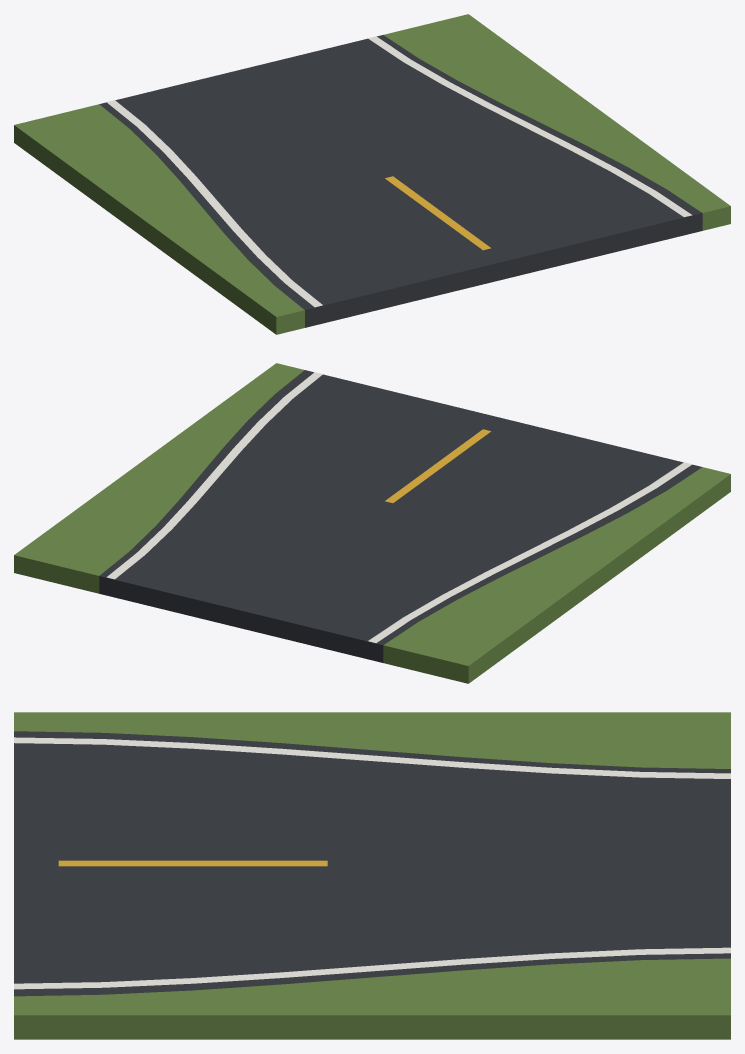
The model's file is Transition_Ramp_To_2Lane_NoSidewalk_8m.glb.
3 renders of one model, top to bottom at view 1: azimuth 30°, elevation 25°; view 2: azimuth 150°, elevation 25°; view 3: azimuth 270°, elevation 25°, orthographic. The views are drawn at different scales.
Visible parts, largest first — view 1: Transition_Ramp_To_2Lane_NoSidewalk_8m_Asphalt, Transition_Ramp_To_2Lane_NoSidewalk_8m_Grass-edge, Transition_Ramp_To_2Lane_NoSidewalk_8m_PaintWhite, Transition_Ramp_To_2Lane_NoSidewalk_8m_PaintYellow; view 2: Transition_Ramp_To_2Lane_NoSidewalk_8m_Asphalt, Transition_Ramp_To_2Lane_NoSidewalk_8m_Grass-edge, Transition_Ramp_To_2Lane_NoSidewalk_8m_PaintWhite, Transition_Ramp_To_2Lane_NoSidewalk_8m_PaintYellow; view 3: Transition_Ramp_To_2Lane_NoSidewalk_8m_Asphalt, Transition_Ramp_To_2Lane_NoSidewalk_8m_Grass-edge, Transition_Ramp_To_2Lane_NoSidewalk_8m_PaintWhite, Transition_Ramp_To_2Lane_NoSidewalk_8m_PaintYellow.
Part boxes in pixels (left/top/right/bottom): Transition_Ramp_To_2Lane_NoSidewalk_8m_Asphalt: left=99, top=35, right=702, bottom=327; Transition_Ramp_To_2Lane_NoSidewalk_8m_Grass-edge: left=14, top=14, right=730, bottom=334; Transition_Ramp_To_2Lane_NoSidewalk_8m_PaintWhite: left=106, top=36, right=692, bottom=307; Transition_Ramp_To_2Lane_NoSidewalk_8m_PaintYellow: left=385, top=176, right=490, bottom=250; Transition_Ramp_To_2Lane_NoSidewalk_8m_Asphalt: left=99, top=370, right=701, bottom=662; Transition_Ramp_To_2Lane_NoSidewalk_8m_Grass-edge: left=14, top=363, right=730, bottom=683; Transition_Ramp_To_2Lane_NoSidewalk_8m_PaintWhite: left=106, top=372, right=691, bottom=642; Transition_Ramp_To_2Lane_NoSidewalk_8m_PaintYellow: left=385, top=429, right=490, bottom=502; Transition_Ramp_To_2Lane_NoSidewalk_8m_Asphalt: left=14, top=731, right=730, bottom=996; Transition_Ramp_To_2Lane_NoSidewalk_8m_Grass-edge: left=14, top=712, right=730, bottom=1039; Transition_Ramp_To_2Lane_NoSidewalk_8m_PaintWhite: left=14, top=737, right=730, bottom=989; Transition_Ramp_To_2Lane_NoSidewalk_8m_PaintYellow: left=58, top=860, right=327, bottom=866.
Size of the model in its own units: 8 by 0.305 by 8.
